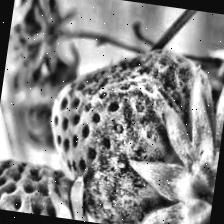Powdery Mildew Fruit: (36, 34, 224, 224)
